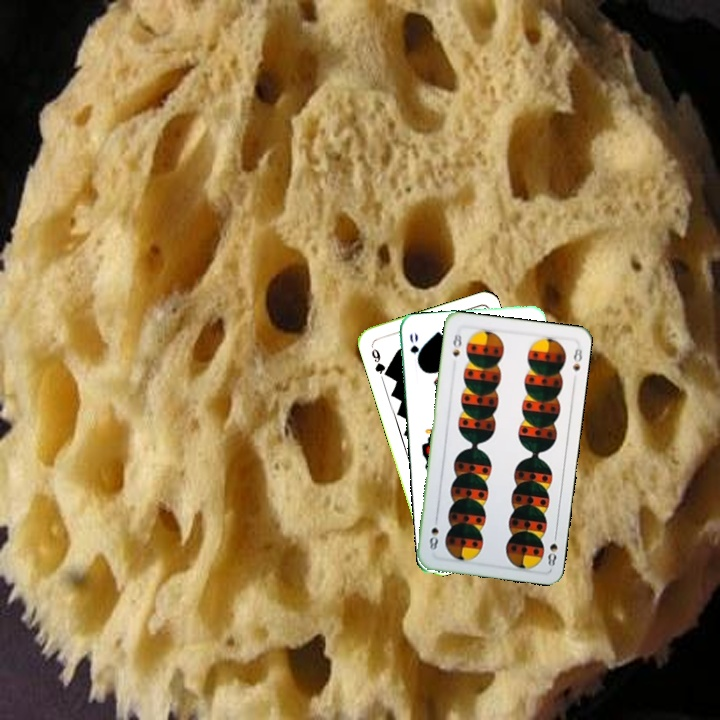G9: (367, 341, 391, 379)
GO: (406, 329, 423, 369)
S8: (544, 528, 560, 568), (449, 328, 464, 359)
